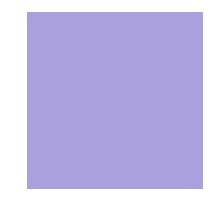rectangle: (27, 12, 202, 188)
